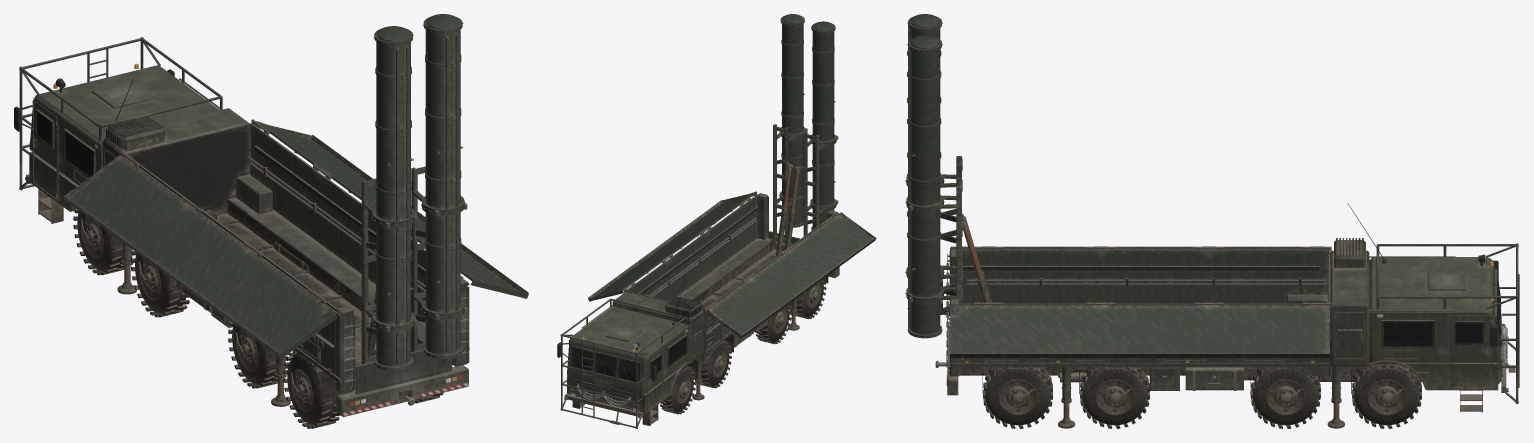
The model's file is l_iskander_k.glb.
The picture shows the model from 3 angles, left to right: view 1: azimuth 30°, elevation 25°; view 2: azimuth 150°, elevation 25°; view 3: azimuth 270°, elevation 25°; orthographic projection. The views are drawn at different scales.
Visible parts, largest first — view 1: body|ISK_B, body|ISK_L, body|ISK_M, body|ISK_A, body|ISK_W, body|ISK_K, body|ISK_F, body|ISK_D; view 2: body|ISK_A, body|ISK_L, body|ISK_B, body|ISK_M, body|ISK_W, body|ISK_K; view 3: body|ISK_B, body|ISK_A, body|ISK_L, body|ISK_W, body|ISK_M, body|ISK_F, body|ISK_K.
Part boxes in pixels (<box>): body|ISK_B: <box>110,119,469,417</box>; body|ISK_L: <box>63,121,528,358</box>; body|ISK_M: <box>373,14,463,370</box>; body|ISK_A: <box>14,38,376,406</box>; body|ISK_W: <box>73,209,443,428</box>; body|ISK_K: <box>361,166,467,364</box>; body|ISK_F: <box>176,210,369,351</box>; body|ISK_D: <box>19,37,466,406</box>; body|ISK_A: <box>557,207,799,428</box>; body|ISK_L: <box>588,191,876,338</box>; body|ISK_B: <box>623,193,839,378</box>; body|ISK_M: <box>780,14,835,230</box>; body|ISK_W: <box>660,277,826,414</box>; body|ISK_K: <box>772,124,838,247</box>; body|ISK_B: <box>935,246,1351,395</box>; body|ISK_A: <box>976,203,1519,428</box>; body|ISK_L: <box>950,246,1329,357</box>; body|ISK_W: <box>983,364,1421,428</box>; body|ISK_M: <box>907,14,942,338</box>; body|ISK_F: <box>959,366,1421,390</box>; body|ISK_K: <box>906,156,982,315</box>.
Size of the model in its own units: 5.86 by 9.54 by 14.2.
8 materials, 8 textured.
